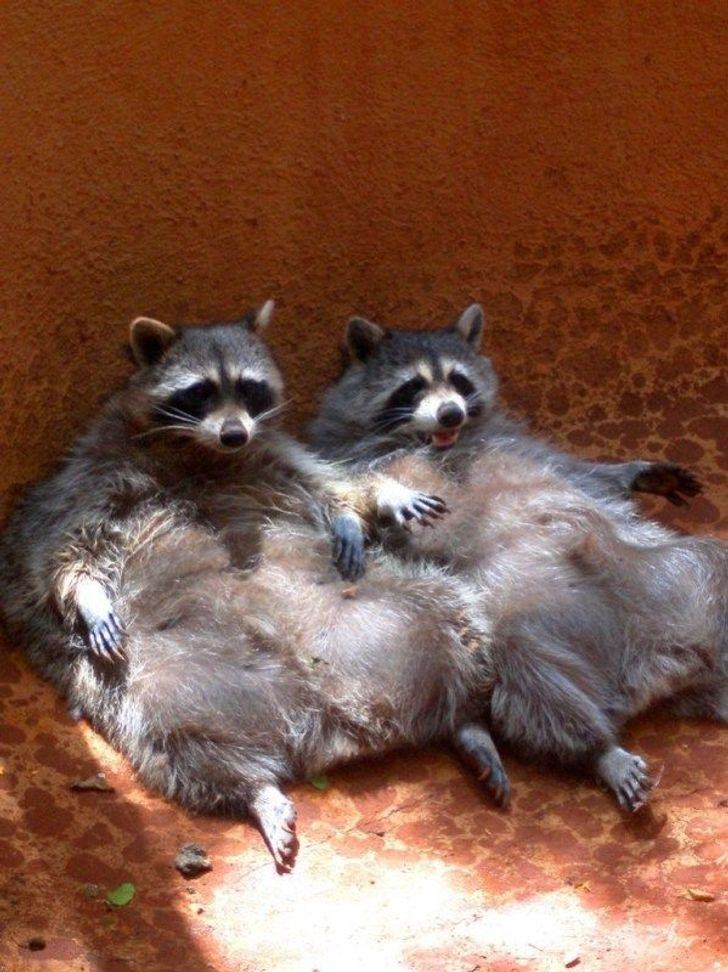raccoon: (7, 294, 450, 784), (314, 260, 727, 780)
